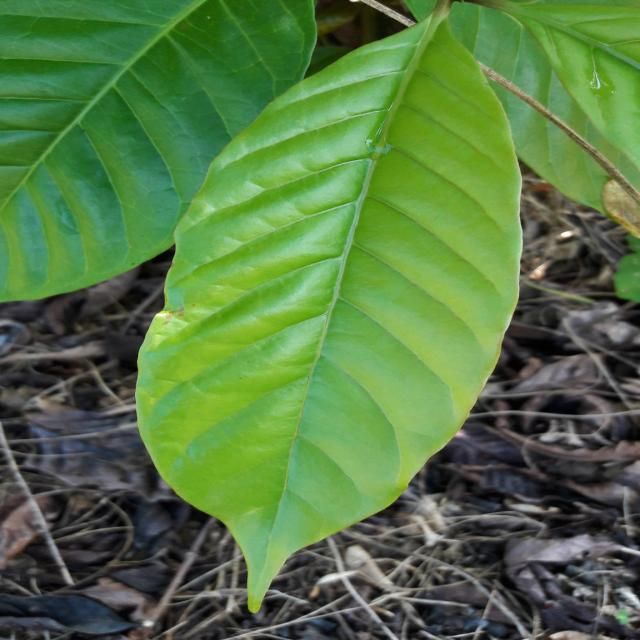Sanas: (135, 9, 523, 616)
